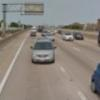cars: (31, 38, 57, 63)
